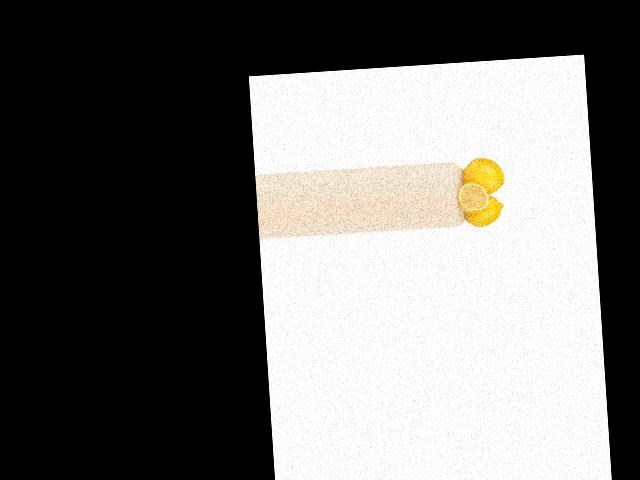lemon: (459, 194, 505, 230)
